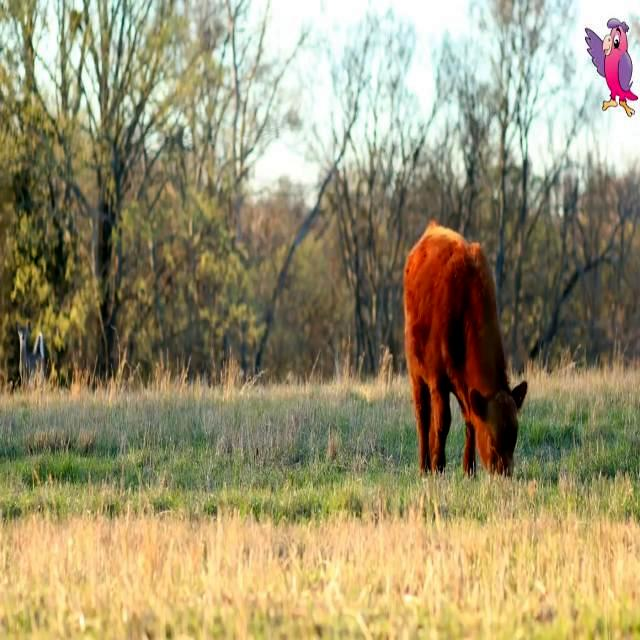COW: (404, 222, 528, 474)
